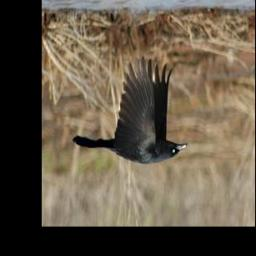Crow: (72, 56, 189, 166)
